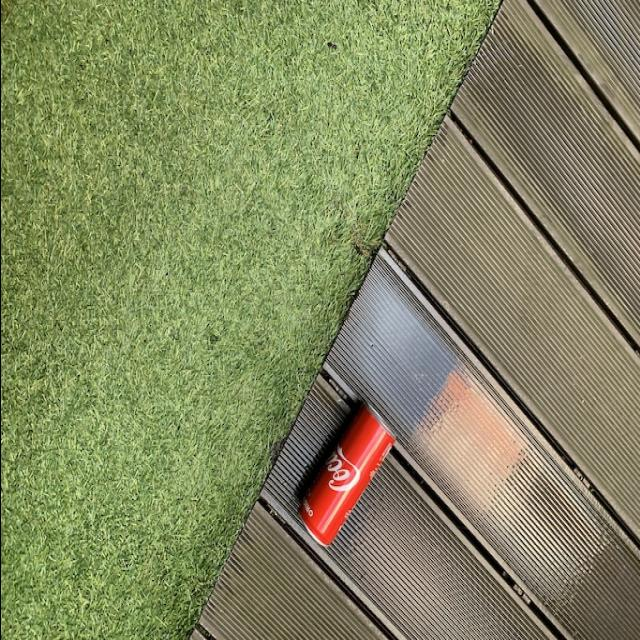Aluminum Can: (291, 393, 401, 552)
